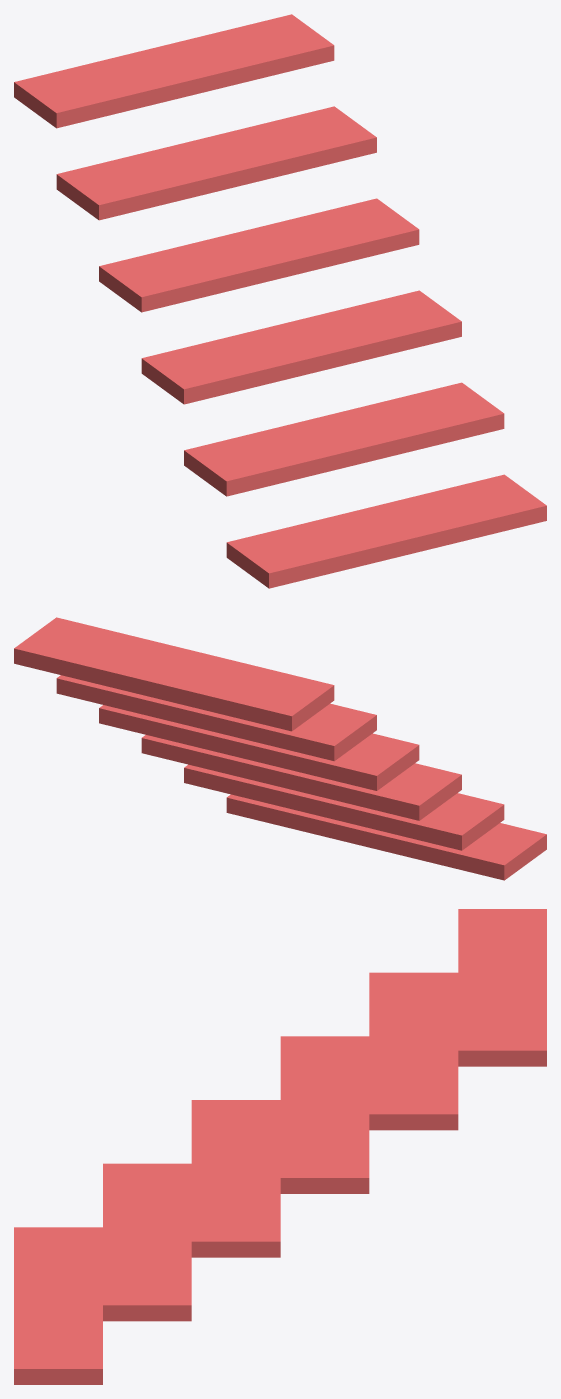
Rendered from Stairs_097.glb.
3 renders of one model, top to bottom at view 1: azimuth 30°, elevation 25°; view 2: azimuth 150°, elevation 25°; view 3: azimuth 270°, elevation 25°, orthographic. The views are drawn at different scales.
Visible parts, largest first — view 1: Stairs_097; view 2: Stairs_097; view 3: Stairs_097.
Part boxes in pixels (x1,y1,x2,y2): Stairs_097: [14, 14, 546, 588]; Stairs_097: [14, 617, 546, 880]; Stairs_097: [14, 909, 546, 1384].
Size of the model in its own units: 1.6 by 1.76 by 2.54.
Materials: 1 (1 with a texture image).
